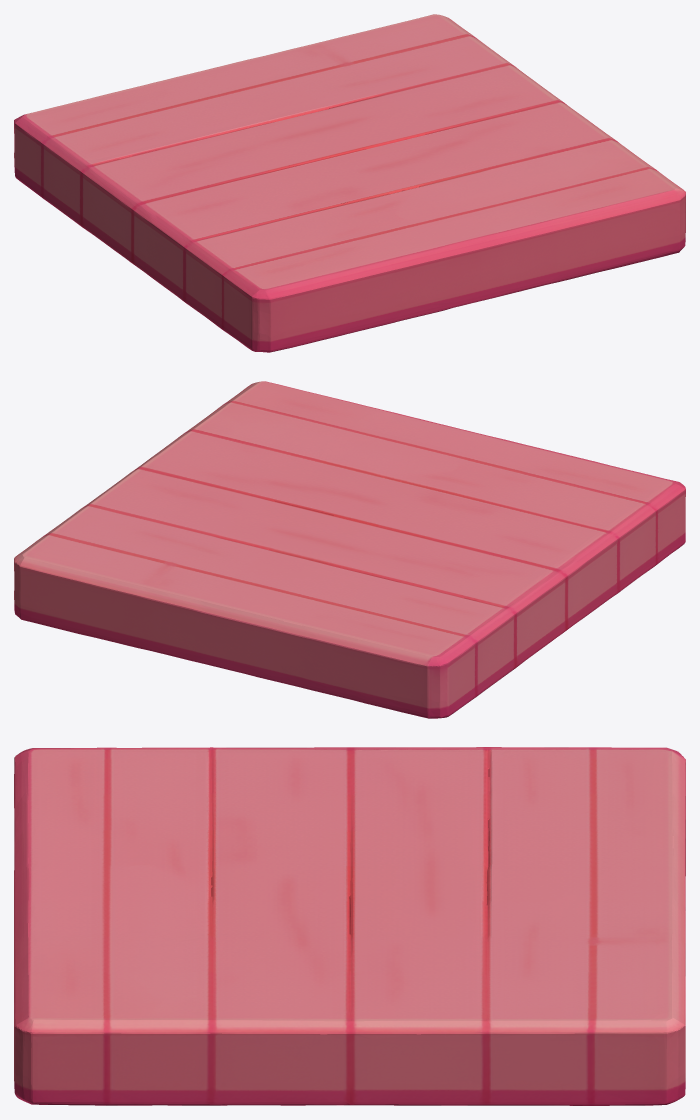
3 renders of one model, top to bottom at view 1: azimuth 30°, elevation 25°; view 2: azimuth 150°, elevation 25°; view 3: azimuth 270°, elevation 25°, orthographic. The views are drawn at different scales.
Visible parts, largest first — view 1: world; view 2: world; view 3: world.
Boxes of the visible parts, bbox=[...] form: world: bbox=[14, 14, 685, 352]; world: bbox=[14, 381, 685, 718]; world: bbox=[14, 747, 685, 1105].
Bounding box in the file's own units: 100 × 13.43 × 100.
Materials: 1 (1 with a texture image).
